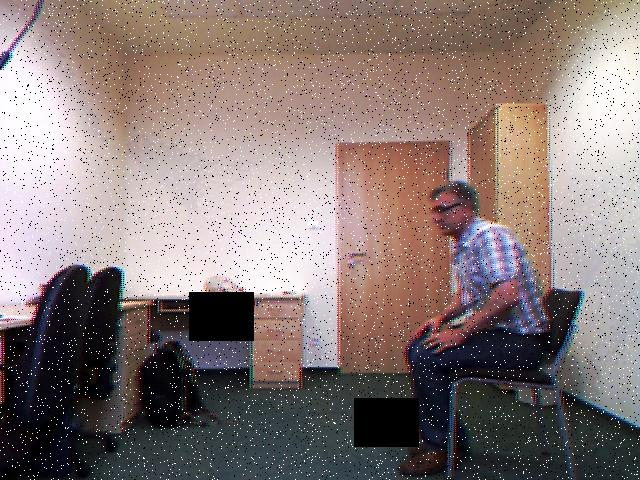sitting: (396, 168, 567, 480)
